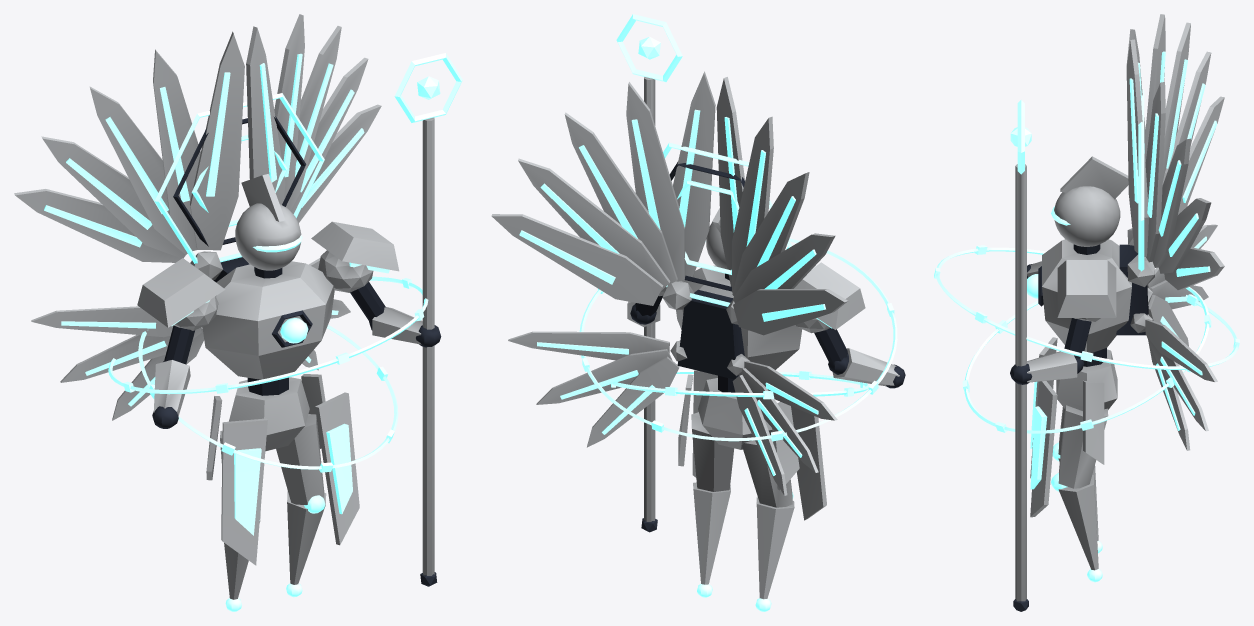
File: mech_archon.glb
3 renders of one model, left to right at view 1: azimuth 30°, elevation 25°; view 2: azimuth 150°, elevation 25°; view 3: azimuth 270°, elevation 25°, orthographic. The views are drawn at different scales.
Parts seen in each view (by area): view 1: body, wing_L_a, wing_R_a, wing_L_b, spin_z_halo, spin_y_ring1, spin_y_ring0; view 2: body, wing_R_a, wing_L_a, wing_R_b, wing_L_b, spin_y_ring1, spin_z_halo, spin_y_ring0; view 3: body, wing_R_a, wing_L_a, wing_R_b, spin_y_ring1, wing_L_b, spin_y_ring0, spin_z_halo.
Part boxes in pixels (x1,y1,x2,y2): body: (137, 53, 462, 611); wing_L_a: (14, 31, 244, 280); wing_R_a: (246, 14, 381, 222); wing_L_b: (31, 306, 204, 420); spin_z_halo: (154, 93, 324, 263); spin_y_ring1: (108, 276, 428, 394); spin_y_ring0: (138, 325, 398, 472); body: (616, 14, 905, 611); wing_R_a: (491, 71, 715, 309); wing_L_a: (716, 77, 847, 335); wing_R_b: (508, 331, 686, 447); wing_L_b: (727, 354, 837, 495); spin_y_ring1: (579, 238, 897, 441); spin_z_halo: (663, 142, 791, 306); spin_y_ring0: (611, 369, 868, 399); body: (1010, 100, 1148, 611); wing_R_a: (1126, 39, 1224, 290); wing_L_a: (1126, 14, 1224, 245); wing_R_b: (1130, 313, 1217, 450); spin_y_ring1: (934, 245, 1239, 372); wing_L_b: (1147, 224, 1217, 346); spin_y_ring0: (962, 287, 1211, 433); spin_z_halo: (1138, 89, 1144, 271).
Bounding box in the file's own units: 1.78 × 2.59 × 1.35.
